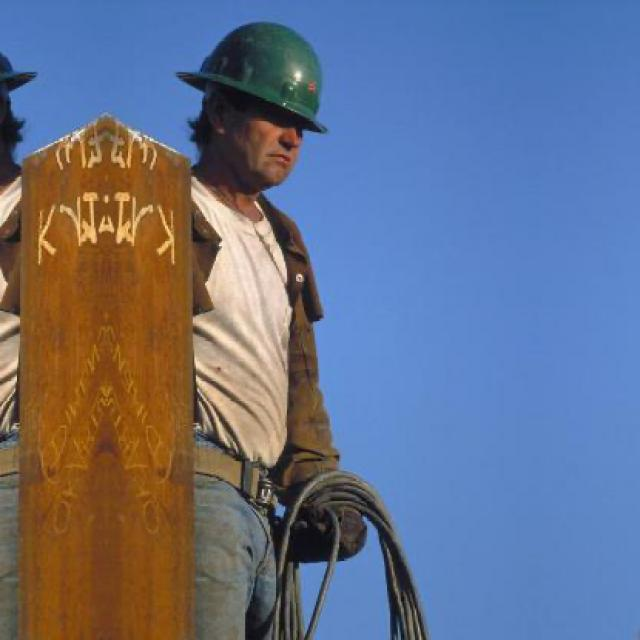helmet: (174, 8, 355, 203)
